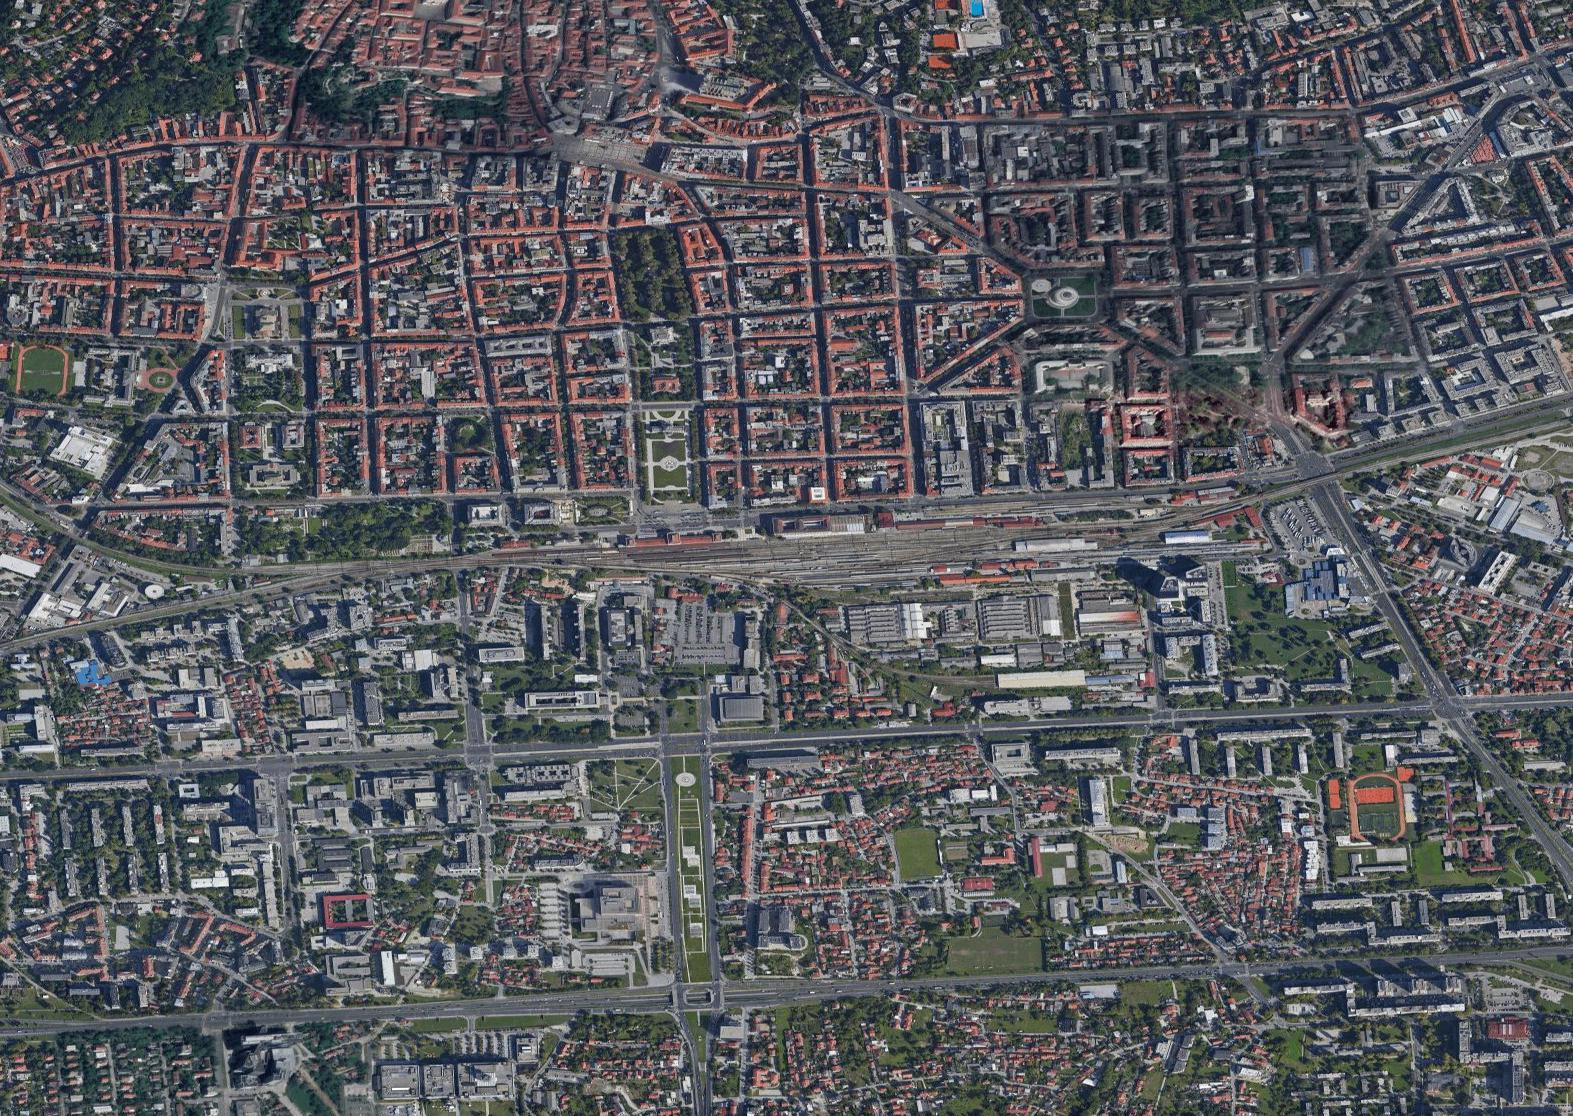train_station: (612, 518, 762, 574)
